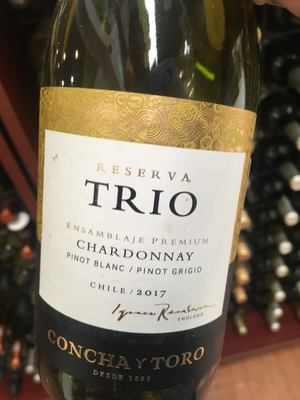trio chardonnay: (29, 11, 261, 400)
